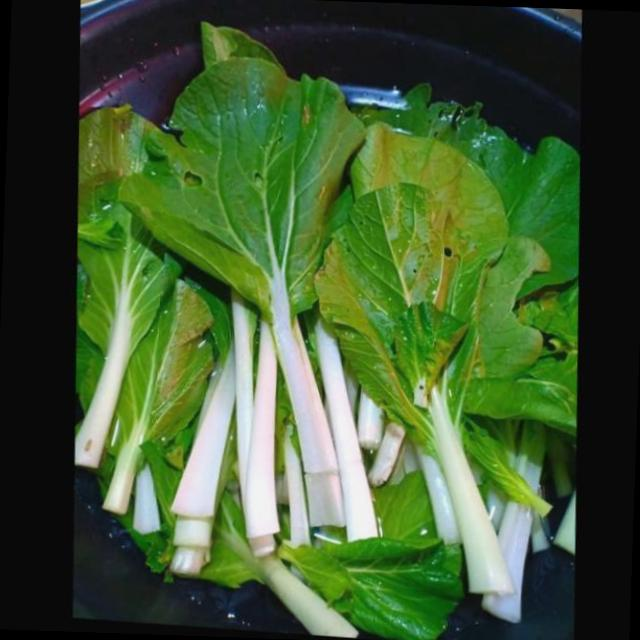vo_rau_cu: (116, 68, 365, 531), (321, 184, 512, 597), (366, 85, 579, 399), (72, 111, 179, 520), (93, 259, 229, 577), (269, 471, 465, 640), (169, 302, 286, 582), (459, 415, 574, 624), (325, 125, 505, 241), (314, 325, 403, 542), (249, 561, 354, 640), (196, 473, 262, 593), (198, 26, 284, 87)
